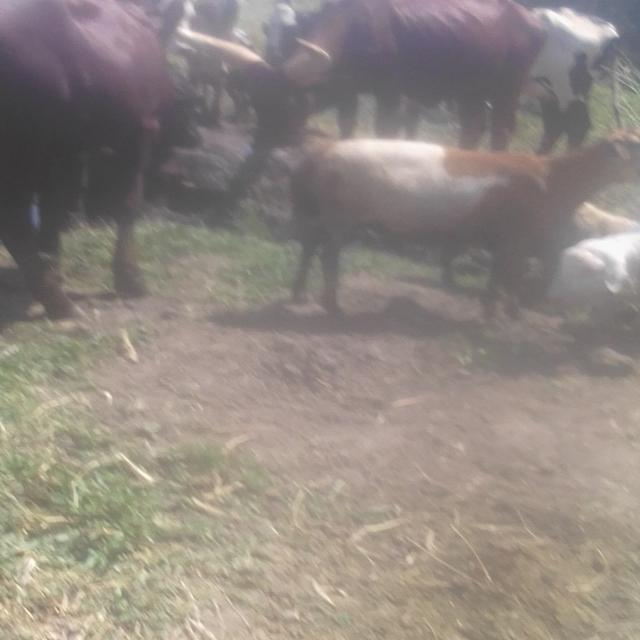goat: (227, 89, 640, 358)
